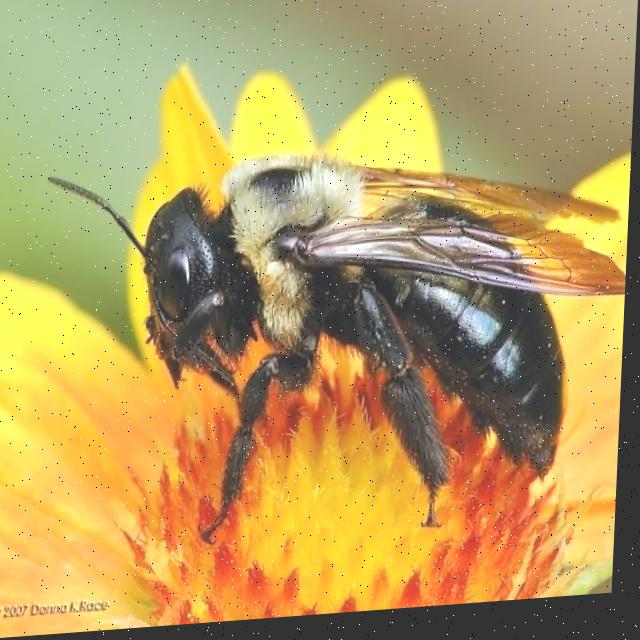Xylocopa: (25, 117, 635, 565)
